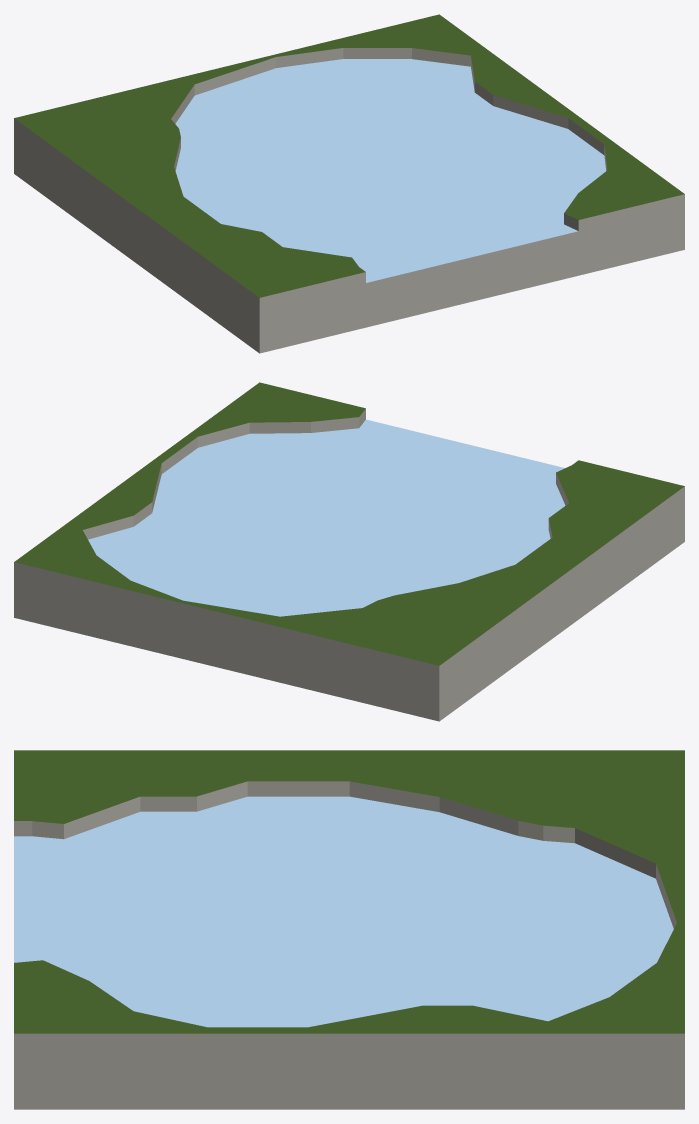
The model's file is Terrain_Tile_Grass_Rock_River_End_01.fbx.
The picture shows the model from 3 angles, top to bottom: view 1: azimuth 30°, elevation 25°; view 2: azimuth 150°, elevation 25°; view 3: azimuth 270°, elevation 25°; orthographic projection. The views are drawn at different scales.
Visible parts, largest first — view 1: Terrain_Tile_Grass_Rock_River_End_01; view 2: Terrain_Tile_Grass_Rock_River_End_01; view 3: Terrain_Tile_Grass_Rock_River_End_01.
Part boxes in pixels (bbox=[...]): Terrain_Tile_Grass_Rock_River_End_01: bbox=[14, 14, 684, 353]; Terrain_Tile_Grass_Rock_River_End_01: bbox=[14, 382, 684, 721]; Terrain_Tile_Grass_Rock_River_End_01: bbox=[14, 750, 684, 1109].
Bounding box in the file's own units: 126 × 15.75 × 126.
